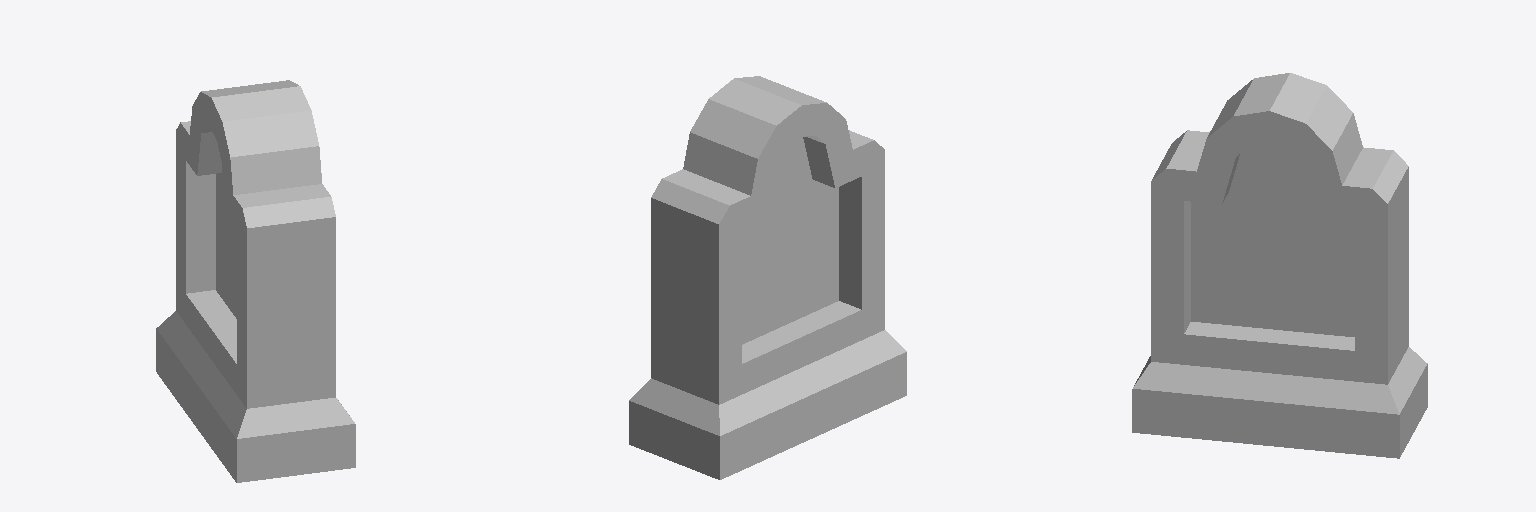
The model's file is Gravestone_Bevel_3.obj.
3 renders of one model, left to right at view 1: azimuth 30°, elevation 25°; view 2: azimuth 150°, elevation 25°; view 3: azimuth 270°, elevation 25°, orthographic.
Visible parts, largest first — view 1: Gravestone_Bevel_3; view 2: Gravestone_Bevel_3; view 3: Gravestone_Bevel_3.
Part boxes in pixels (x1,y1,x2,y2): Gravestone_Bevel_3: (156, 80, 355, 482); Gravestone_Bevel_3: (629, 76, 906, 479); Gravestone_Bevel_3: (1132, 73, 1427, 458).
Size of the model in its own units: 0.3597 by 0.7127 by 0.5807.